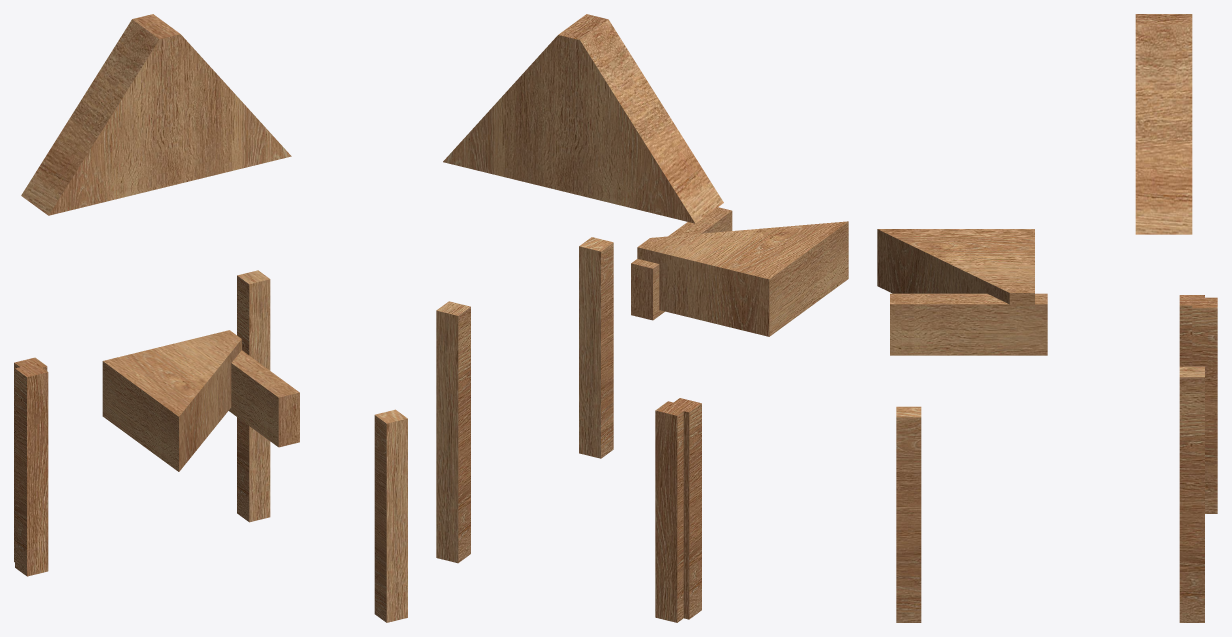
The model's file is 44650_deepcad-end2end.glb.
The picture shows the model from 3 angles, left to right: view 1: azimuth 30°, elevation 25°; view 2: azimuth 150°, elevation 25°; view 3: azimuth 270°, elevation 25°; orthographic projection. The views are drawn at different scales.
Visible parts, largest first — view 1: test_cmd_44650_pred; view 2: test_cmd_44650_pred; view 3: test_cmd_44650_pred.
Boxes of the visible parts, bbox=[...] form: test_cmd_44650_pred: bbox=[14, 14, 407, 622]; test_cmd_44650_pred: bbox=[436, 14, 848, 622]; test_cmd_44650_pred: bbox=[877, 14, 1217, 622].
Bounding box in the file's own units: 0.4842 × 1 × 0.5684.
Materials: 1 (1 with a texture image).
